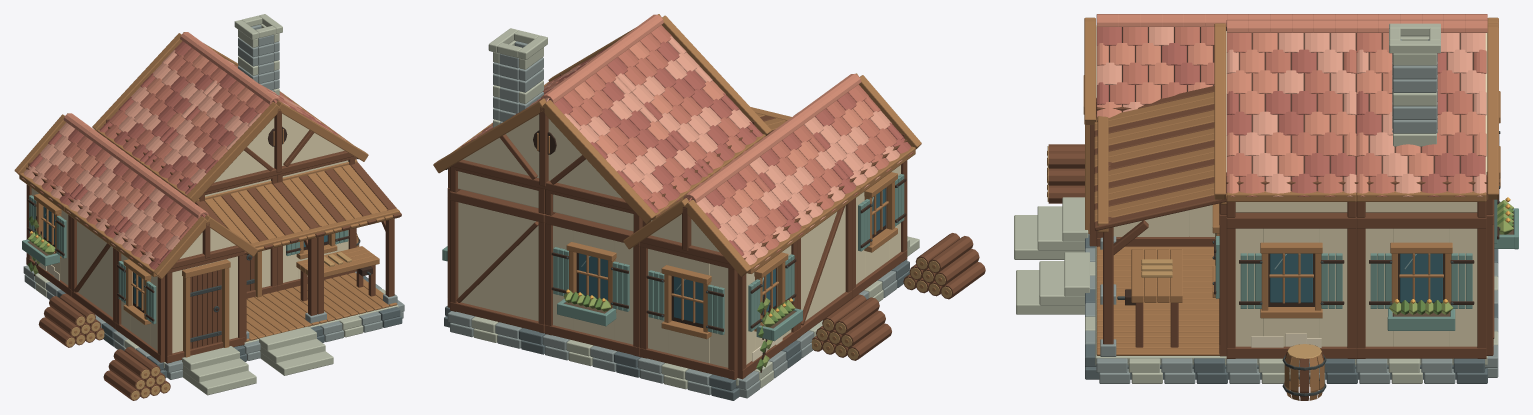
File: carpenter_court_composed.glb
3 renders of one model, left to right at view 1: azimuth 30°, elevation 25°; view 2: azimuth 150°, elevation 25°; view 3: azimuth 270°, elevation 25°, orthographic. The views are drawn at different scales.
Parts seen in each view (by area): view 1: roof_gable_4x2m__finish.001, roof_gable_4x2m__finish, attachment_work_canopy_2m__attachments.001, attachment_work_canopy_2m__attachments, gable_end_4m__structure, roof_gable_2x2m__finish.001, roof_gable_2x2m__finish.002, roof_gable_2x2m__finish, wall_door_2m__structure, wall_door_2m__finish, gable_end_4m__finish, attachment_chimney__attachments (+30 smaller); view 2: roof_gable_4x2m__finish, roof_gable_4x2m__finish.001, wall_plain_2m__finish.001, gable_end_4m__structure.001, roof_gable_2x2m__finish, roof_gable_2x2m__finish.001, roof_gable_2x2m__finish.002, wall_window_2m__finish.002, wall_window_2m__structure.002, wall_window_2m__structure.004, wall_window_2m__finish.004, wall_plain_2m__structure.001 (+29 smaller); view 3: roof_gable_4x2m__finish, roof_gable_4x2m__finish.001, roof_gable_2x2m__finish, wall_window_2m__finish.006, wall_window_2m__finish.007, attachment_work_canopy_2m__attachments.001, wall_window_2m__structure.006, wall_window_2m__structure.007, attachment_work_canopy_2m__attachments, attachment_chimney__attachments, floor_cell_2m__structure.008, attachment_steps_040__attachments (+30 smaller).
Boxes of the visible parts, x1,y1,x2,y2 form: roof_gable_4x2m__finish.001: (98,32,316,162); roof_gable_4x2m__finish: (143,65,346,195); attachment_work_canopy_2m__attachments.001: (278,159,401,321); attachment_work_canopy_2m__attachments: (195,181,323,338); gable_end_4m__structure: (186,100,368,202); roof_gable_2x2m__finish.001: (66,146,160,239); roof_gable_2x2m__finish.002: (21,113,115,207); roof_gable_2x2m__finish: (111,179,208,272); wall_door_2m__structure: (165,251,244,363); wall_door_2m__finish: (172,256,237,353); gable_end_4m__finish: (214,113,344,182); attachment_chimney__attachments: (234,14,282,95); roof_gable_4x2m__finish: (543,14,764,174); roof_gable_4x2m__finish.001: (461,54,709,215); wall_plain_2m__finish.001: (458,202,538,321); gable_end_4m__structure.001: (433,98,656,223); roof_gable_2x2m__finish: (797,74,913,188); roof_gable_2x2m__finish.001: (742,114,858,228); roof_gable_2x2m__finish.002: (683,154,803,268); wall_window_2m__finish.002: (648,249,728,367); wall_window_2m__structure.002: (640,242,737,379); wall_window_2m__structure.004: (545,212,639,356); wall_window_2m__finish.004: (553,225,633,344); wall_plain_2m__structure.001: (450,189,545,333); roof_gable_4x2m__finish: (1226,19,1356,196); roof_gable_4x2m__finish.001: (1356,19,1487,196); roof_gable_2x2m__finish: (1096,14,1226,117); wall_window_2m__finish.006: (1235,228,1347,346); wall_window_2m__finish.007: (1365,228,1477,346); attachment_work_canopy_2m__attachments.001: (1094,143,1226,356); wall_window_2m__structure.006: (1226,212,1356,358); wall_window_2m__structure.007: (1356,212,1486,358); attachment_work_canopy_2m__attachments: (1094,86,1214,290); attachment_chimney__attachments: (1389,23,1440,146); floor_cell_2m__structure.008: (1096,299,1219,355); attachment_steps_040__attachments: (1016,252,1089,314).
Bounding box in the file's own units: 8.16 × 5.53 × 7.77.
